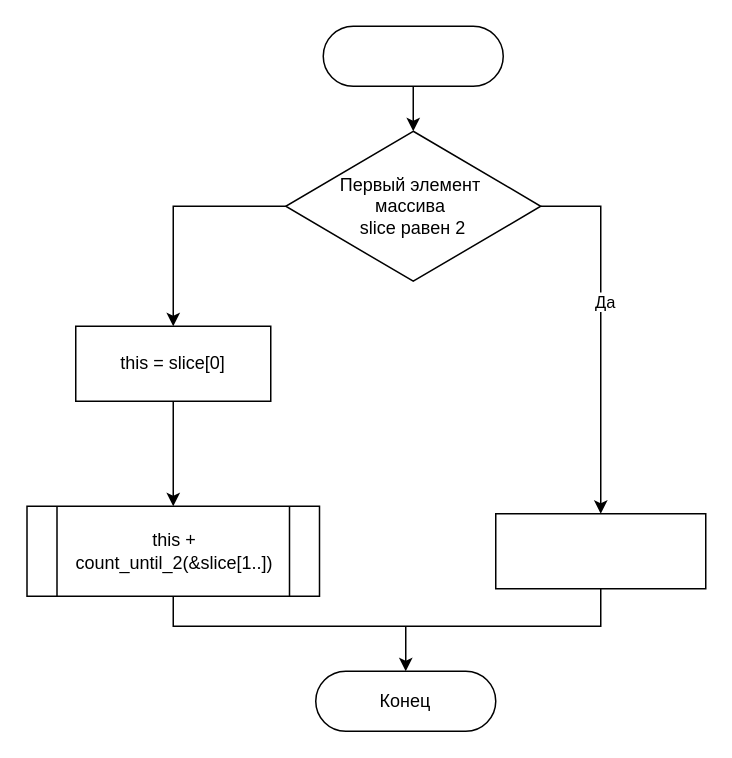
Image size: 732x758. Some labels were removed from this diagram. The centre of each missing label's shape, as x and y in pixels:
Возврат 0: the point at 600,550
Начало: the point at 412,55
